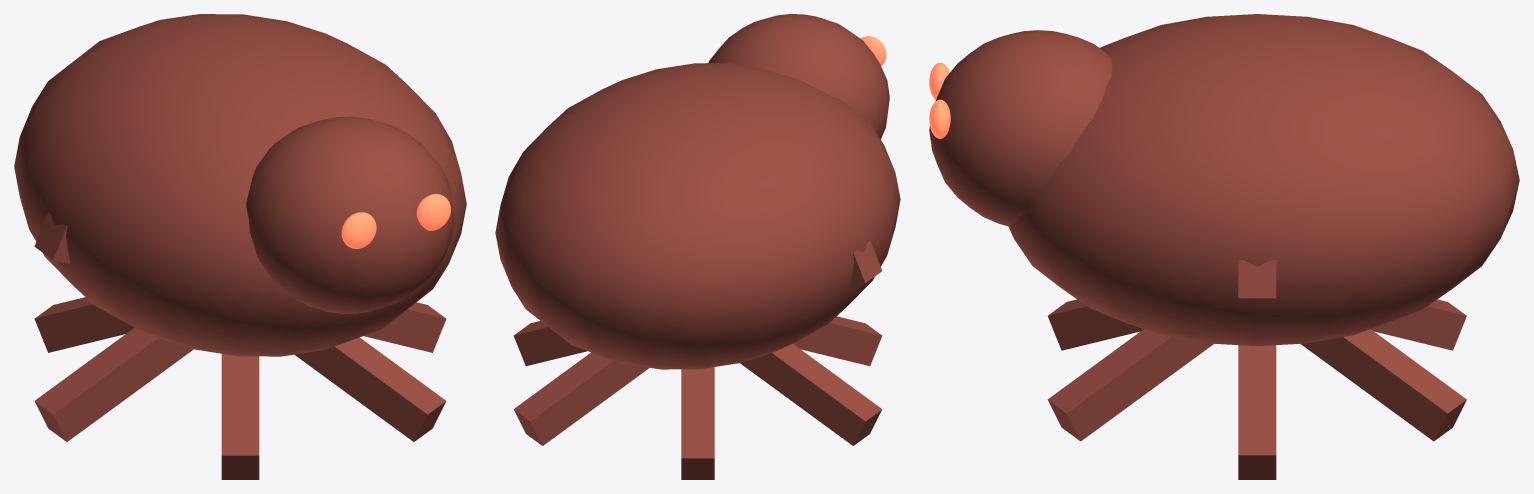
The model's file is jumper.glb.
3 renders of one model, left to right at view 1: azimuth 30°, elevation 25°; view 2: azimuth 150°, elevation 25°; view 3: azimuth 270°, elevation 25°, orthographic. The views are drawn at different scales.
Visible parts, largest first — view 1: jumper.glb; view 2: jumper.glb; view 3: jumper.glb.
Boxes of the visible parts, bbox=[...] form: jumper.glb: bbox=[14, 14, 466, 479]; jumper.glb: bbox=[495, 14, 900, 479]; jumper.glb: bbox=[929, 14, 1519, 479].
Bounding box in the file's own units: 0.4226 × 0.3509 × 0.54.
